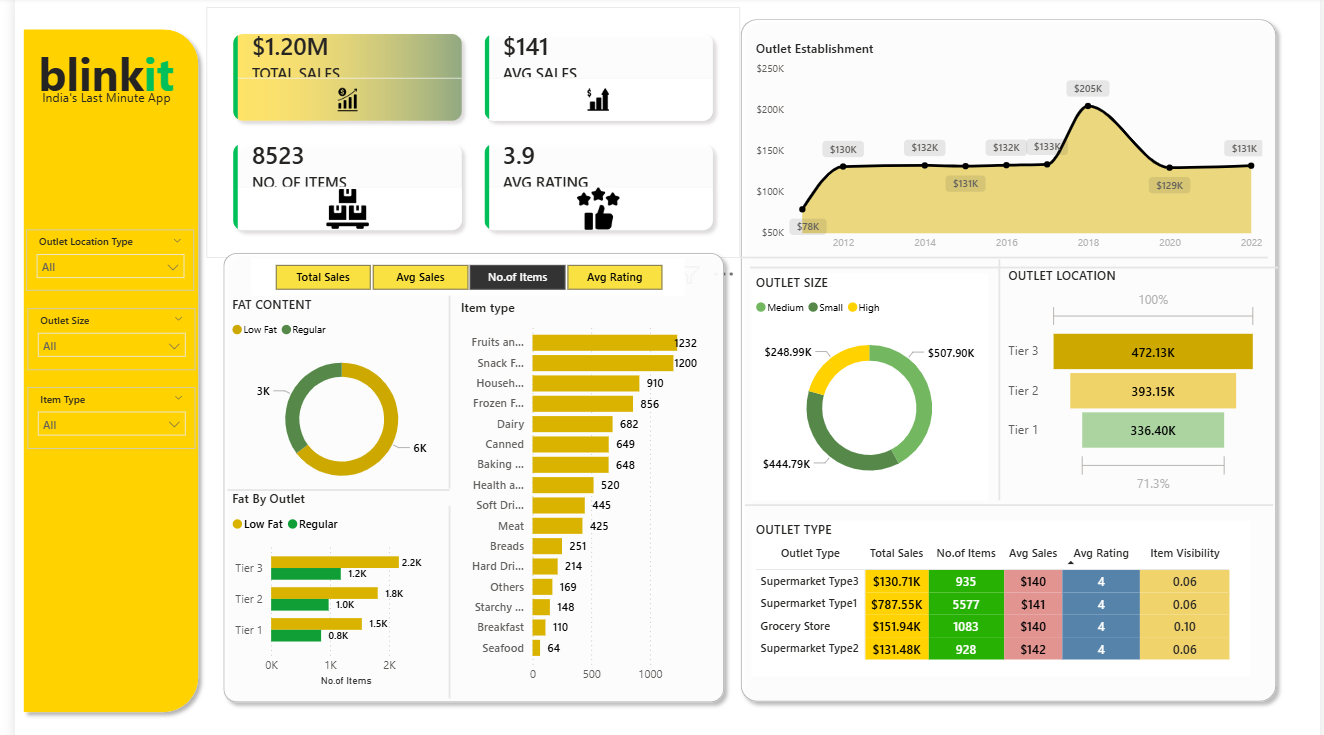

This screenshot's page, from the dashboard's own definition file:
{"tool":"powerbi","page":{"name":"Page 1","canvas":[1400,800],"ordinal":0},"visuals":[{"type":"shape","box":[0,25.5,205.6,750.4],"z":0},{"type":"textbox","box":[253.4,25.5,205.1,81.8],"z":1000},{"type":"textbox","box":[20.1,44.2,166.2,75.1],"z":2000},{"type":"textbox","box":[24.1,93.8,158.2,28.2],"z":3000},{"type":"cardVisual","fields":{"Data":["BlinkIT Grocery Data.Total Sales","BlinkIT Grocery Data.Avg Sales","BlinkIT Grocery Data.No.of Items","BlinkIT Grocery Data.Avg Rating"]},"box":[205.1,10.7,572.4,269.4],"z":4000},{"type":"shape","box":[214.5,265.4,555,500],"z":5000},{"type":"donutChart","title":"FAT CONTENT","fields":{"Y":["BlinkIT Grocery Data.No.of Items"],"Category":["BlinkIT Grocery Data.Item Fat Content"]},"box":[227.9,320.4,245.3,219.8],"z":6000},{"type":"slicer","fields":{"Values":["Metrics.Metrics"]},"box":[253.4,280.2,465.1,40.2],"z":7000},{"type":"clusteredBarChart","title":"Fat By Outlet","fields":{"Y":["BlinkIT Grocery Data.No.of Items"],"Category":["BlinkIT Grocery Data.Outlet Location Type"],"Series":["BlinkIT Grocery Data.Item Fat Content"]},"box":[228.3,528.3,220,216.7],"z":8000},{"type":"shape","box":[228.3,511.7,238.3,33.3],"z":9000},{"type":"shape","box":[448.3,320,36.7,206.7],"z":10000},{"type":"shape","box":[448.3,545,36.7,206.7],"z":11000},{"type":"barChart","title":"Item type","fields":{"Y":["BlinkIT Grocery Data.No.of Items"],"Category":["BlinkIT Grocery Data.Item Type"]},"box":[473.3,323.3,276.7,421.7],"z":12000},{"type":"shape","box":[770,15,592,750],"z":13000},{"type":"lineChart","title":" Outlet Establishment ","fields":{"Y":["BlinkIT Grocery Data.Total Sales"],"Category":["BlinkIT Grocery Data.Outlet Establishment Year"]},"box":[790,45,553.3,235],"z":14000},{"type":"shape","box":[778,270,566,20],"z":15000},{"type":"donutChart","title":"OUTLET SIZE","fields":{"Y":["BlinkIT Grocery Data.Total Sales"],"Category":["BlinkIT Grocery Data.Outlet Size"]},"box":[790,296.4,253.6,243.6],"z":16000},{"type":"shape","box":[1043.6,281.8,22.7,258.2],"z":17000},{"type":"funnel","title":"OUTLET LOCATION","fields":{"Category":["BlinkIT Grocery Data.Outlet Location Type"],"Y":["Sum(BlinkIT Grocery Data.Sales)"]},"box":[1060.9,290,277.3,248.2],"z":18000},{"type":"shape","box":[782.7,535.5,566.4,20],"z":19000},{"type":"pivotTable","title":"OUTLET TYPE","fields":{"Rows":["BlinkIT Grocery Data.Outlet Type"],"Values":["BlinkIT Grocery Data.Total Sales","BlinkIT Grocery Data.No.of Items","BlinkIT Grocery Data.Avg Sales","BlinkIT Grocery Data.Avg Rating","Avg(BlinkIT Grocery Data.Item Visibility)"]},"box":[790,561.8,535.5,167.3],"z":20000},{"type":"slicer","fields":{"Values":["BlinkIT Grocery Data.Outlet Location Type"]},"box":[12.7,249.1,180,65.5],"z":21000},{"type":"shape","box":[788,280,566,20],"z":21001},{"type":"slicer","fields":{"Values":["BlinkIT Grocery Data.Outlet Size"]},"box":[13.3,333.3,180,66.7],"z":21002},{"type":"slicer","fields":{"Values":["BlinkIT Grocery Data.Item Type"]},"box":[13.3,418.3,180,66.7],"z":21003}]}

Visuals, with their boxes in screenshot pixels (x1, y1, x2, y2), scaled from the page's 1400x800 canvas onto the 1324x735 screenshot:
shape: left=0, top=23, right=194, bottom=713
textbox: left=240, top=23, right=434, bottom=99
textbox: left=19, top=41, right=176, bottom=110
textbox: left=23, top=86, right=172, bottom=112
cardVisual - BlinkIT Grocery Data.Total Sales x BlinkIT Grocery Data.Avg Sales: left=194, top=10, right=735, bottom=257
shape: left=203, top=244, right=728, bottom=703
"FAT CONTENT" donutChart: left=216, top=294, right=448, bottom=496
slicer - Metrics.Metrics: left=240, top=257, right=679, bottom=294
"Fat By Outlet" clusteredBarChart: left=216, top=485, right=424, bottom=684
shape: left=216, top=470, right=441, bottom=501
shape: left=424, top=294, right=459, bottom=484
shape: left=424, top=501, right=459, bottom=691
"Item type" barChart: left=448, top=297, right=709, bottom=684
shape: left=728, top=14, right=1288, bottom=703
" Outlet Establishment " lineChart: left=747, top=41, right=1270, bottom=257
shape: left=736, top=248, right=1271, bottom=266
"OUTLET SIZE" donutChart: left=747, top=272, right=987, bottom=496
shape: left=987, top=259, right=1008, bottom=496
"OUTLET LOCATION" funnel: left=1003, top=266, right=1266, bottom=494
shape: left=740, top=492, right=1276, bottom=510
"OUTLET TYPE" pivotTable: left=747, top=516, right=1254, bottom=670
slicer - BlinkIT Grocery Data.Outlet Location Type: left=12, top=229, right=182, bottom=289
shape: left=745, top=257, right=1280, bottom=276
slicer - BlinkIT Grocery Data.Outlet Size: left=13, top=306, right=183, bottom=368
slicer - BlinkIT Grocery Data.Item Type: left=13, top=384, right=183, bottom=446
